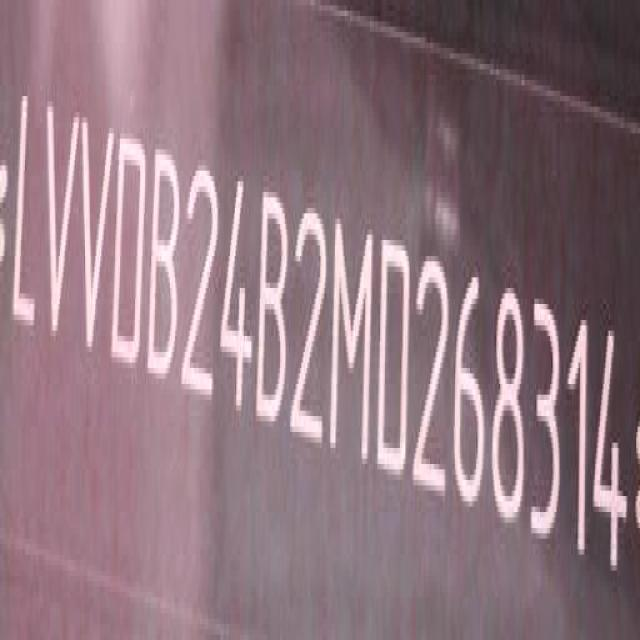1: (568, 307, 589, 567)
2: (414, 253, 452, 507), (293, 198, 330, 452), (185, 156, 220, 408)
3: (530, 291, 564, 550)
4: (594, 330, 630, 580), (219, 167, 253, 422)
6: (451, 266, 485, 518)
8: (492, 283, 528, 533)
B: (148, 138, 183, 391), (256, 180, 290, 429)
D: (378, 228, 414, 486), (112, 124, 148, 374)
L: (11, 85, 44, 338)
M: (330, 214, 375, 476)
V: (40, 98, 78, 350), (79, 112, 115, 366)
